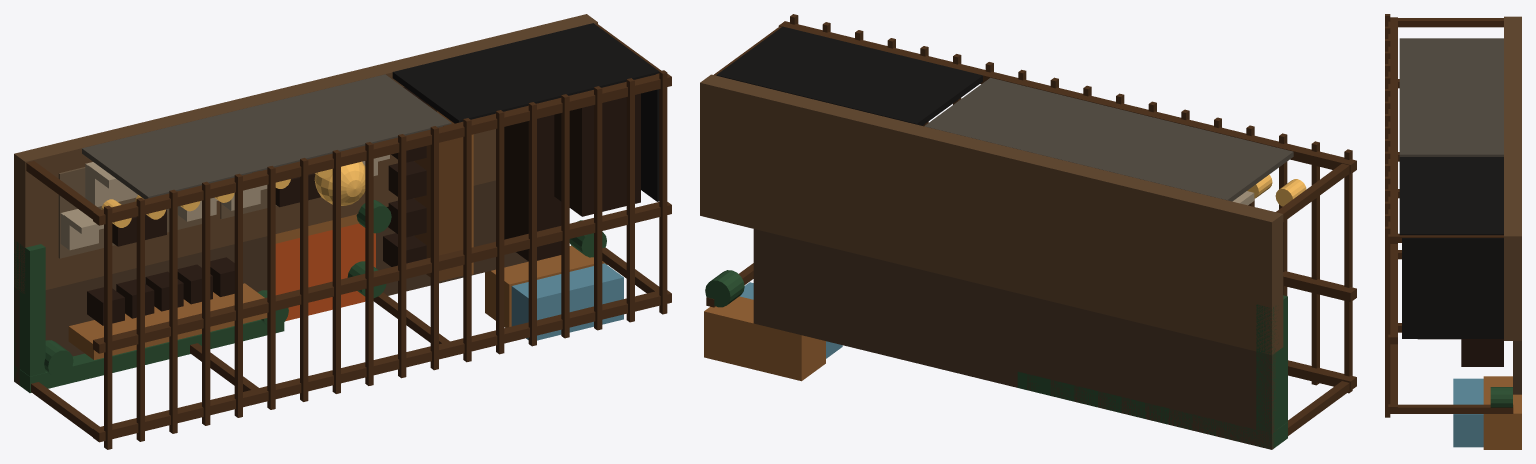
Rendered from 游味烧鸟_固定空间骨架_V1.obj.
3 renders of one model, left to right at view 1: azimuth 30°, elevation 25°; view 2: azimuth 150°, elevation 25°; view 3: azimuth 270°, elevation 25°, orthographic. The views are drawn at different scales.
Visible parts, largest first — view 1: rear_lounge_wall, rear_platform, rear_kitchen_wall, front_platform, main_beam_y_4.35, main_beam_y_0.12, main_beam_y_1.85, rear_bottle_shelf, kitchen_worktop, central_entry_aisle_marker, boardfront_counter, display_fridge_glass (+45 smaller); view 2: rear_platform, front_platform, rear_lounge_wall, rear_kitchen_wall, display_fridge_base, main_beam_y_4.35, left_front_planter, left_side_planter, rafter_01, rafter_02, main_beam_y_1.85, post_0.10_4.35 (+3 smaller); view 3: rear_lounge_wall, right_kitchen_wall, rear_kitchen_wall, rear_platform, display_fridge_base, main_beam_y_4.35, display_fridge_glass, kitchen_worktop, rafter_18, post_11.60_0.10, post_0.10_4.35, main_beam_y_1.85 (+4 smaller).
Boxes of the visible parts, left/top/right/bottom form: rear_lounge_wall: left=82, top=74, right=451, bottom=199; rear_platform: left=14, top=14, right=597, bottom=293; rear_kitchen_wall: left=392, top=23, right=659, bottom=123; front_platform: left=14, top=180, right=528, bottom=385; main_beam_y_4.35: left=93, top=73, right=671, bottom=225; main_beam_y_0.12: left=93, top=290, right=671, bottom=442; main_beam_y_1.85: left=93, top=202, right=671, bottom=353; rear_bottle_shelf: left=554, top=93, right=640, bottom=216; kitchen_worktop: left=504, top=115, right=561, bottom=261; central_entry_aisle_marker: left=275, top=223, right=375, bottom=321; boardfront_counter: left=414, top=103, right=463, bottom=281; display_fridge_glass: left=511, top=263, right=623, bottom=340; rear_platform: left=700, top=74, right=1283, bottom=355; front_platform: left=753, top=229, right=1277, bottom=449; rear_lounge_wall: left=924, top=77, right=1293, bottom=201; rear_kitchen_wall: left=716, top=26, right=982, bottom=125; display_fridge_base: left=704, top=296, right=825, bottom=381; main_beam_y_4.35: left=778, top=21, right=1356, bottom=174; left_front_planter: left=1017, top=371, right=1287, bottom=449; left_side_planter: left=1256, top=295, right=1287, bottom=432; rafter_01: left=1344, top=149, right=1352, bottom=393; rafter_02: left=1311, top=141, right=1319, bottom=385; main_beam_y_1.85: left=1283, top=271, right=1356, bottom=302; post_0.10_4.35: left=1276, top=163, right=1349, bottom=221; rear_lounge_wall: left=1399, top=38, right=1503, bottom=156; right_kitchen_wall: left=1402, top=238, right=1503, bottom=338; rear_kitchen_wall: left=1399, top=157, right=1503, bottom=235; rear_platform: left=1504, top=16, right=1521, bottom=340; display_fridge_base: left=1483, top=376, right=1521, bottom=449; main_beam_y_4.35: left=1388, top=17, right=1397, bottom=243; display_fridge_glass: left=1453, top=378, right=1483, bottom=447; kitchen_worktop: left=1461, top=339, right=1503, bottom=366; rafter_18: left=1385, top=226, right=1390, bottom=417; post_11.60_0.10: left=1398, top=404, right=1513, bottom=413; post_0.10_4.35: left=1398, top=18, right=1503, bottom=27; main_beam_y_1.85: left=1388, top=244, right=1397, bottom=344.
Bounding box in the file's own units: 11.71 × 5.48 × 3.08.
